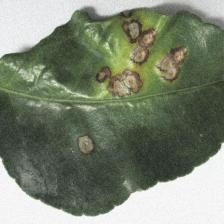canker: (66, 16, 191, 110)
